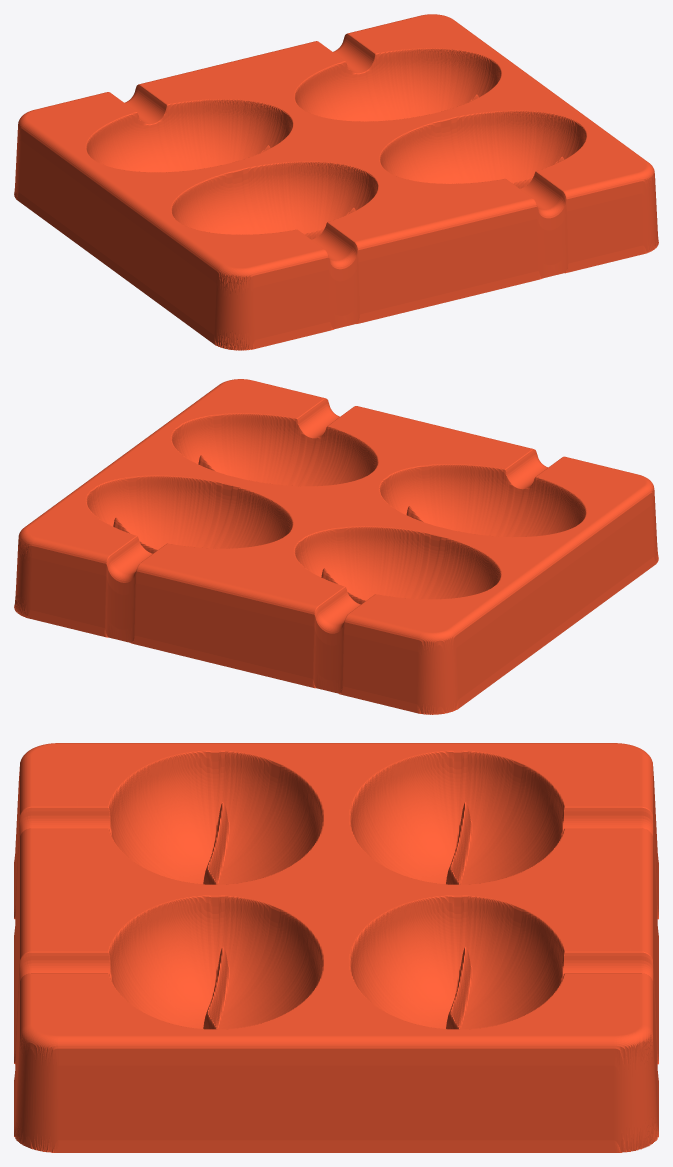
The model's file is mold.glb.
3 renders of one model, top to bottom at view 1: azimuth 30°, elevation 25°; view 2: azimuth 150°, elevation 25°; view 3: azimuth 270°, elevation 25°, orthographic. The views are drawn at different scales.
Visible parts, largest first — view 1: geometry_0; view 2: geometry_0; view 3: geometry_0.
Part boxes in pixels (x1,y1,x2,y2): geometry_0: (14, 14, 658, 350); geometry_0: (14, 379, 658, 714); geometry_0: (14, 743, 658, 1152).
Bounding box in the file's own units: 0.1468 × 0.0245 × 0.1305.
